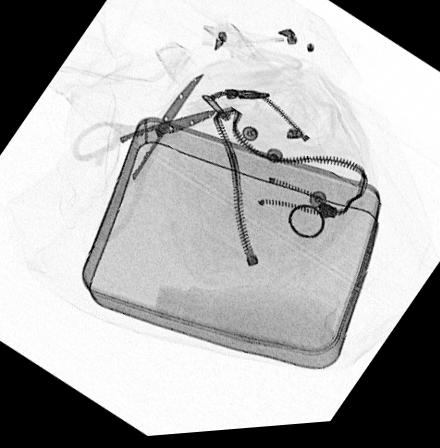Scissors: (69, 76, 217, 242)
